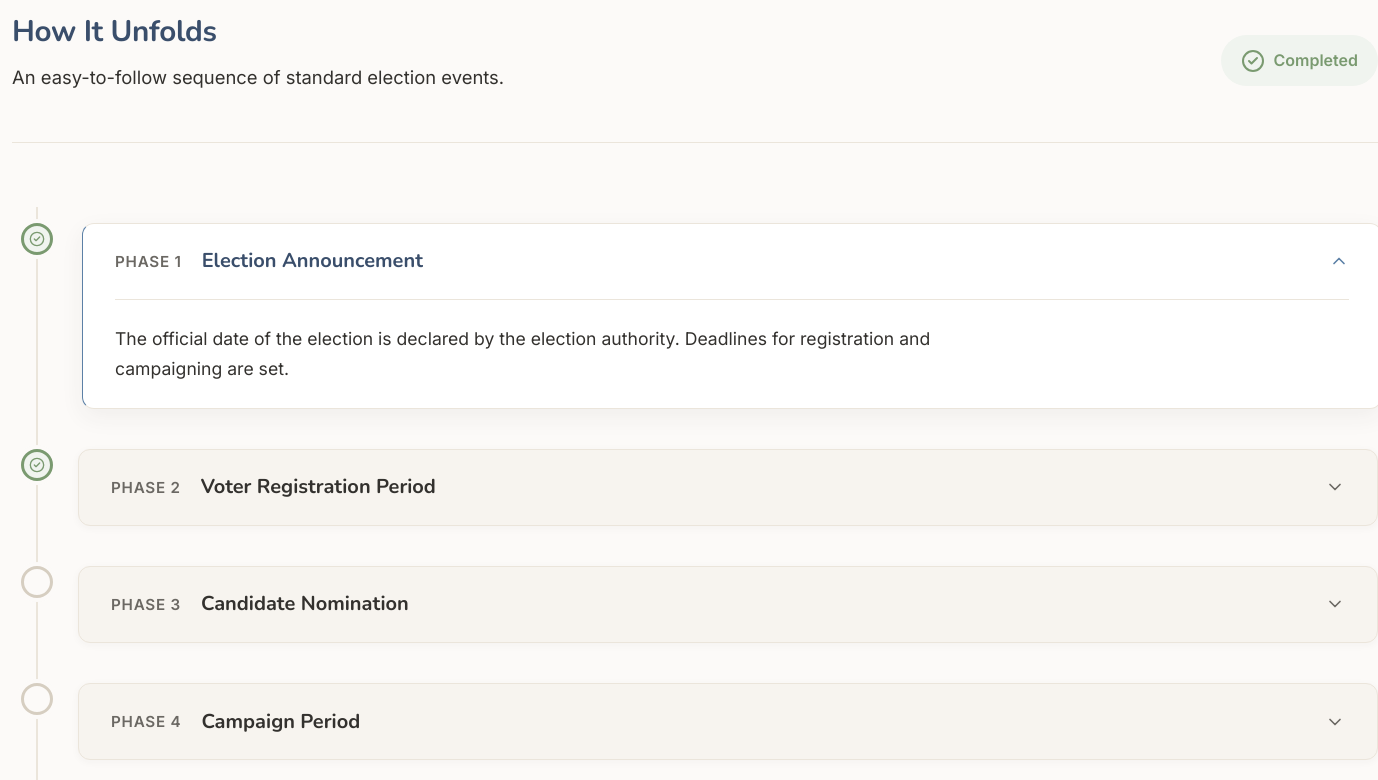
Test: core sections › expands a timeline phase
Click the button "PHASE 2 Voter Registration Period" at (141, 487), box [111,474,1345,500]
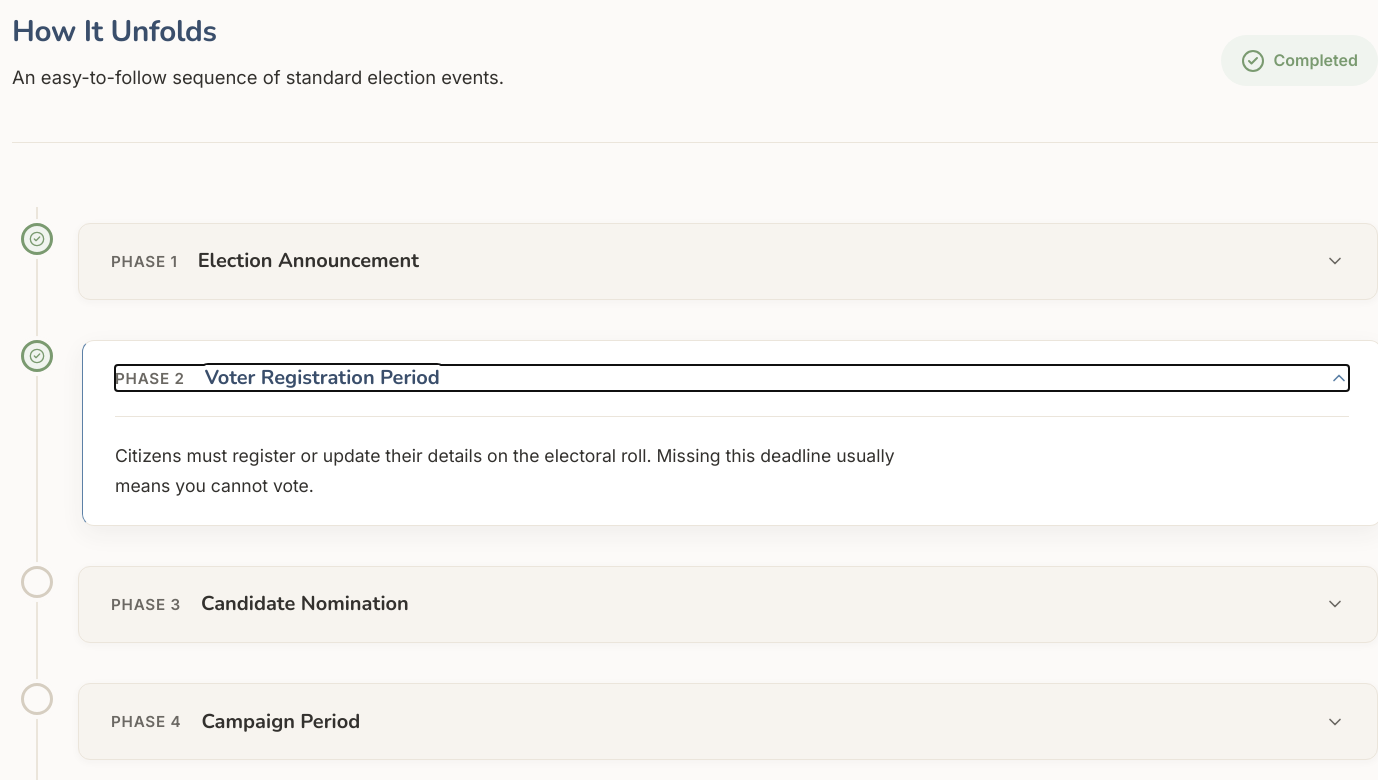
Expected: the text "Citizens must register or update their details" is shown, [115,445,895,496]
